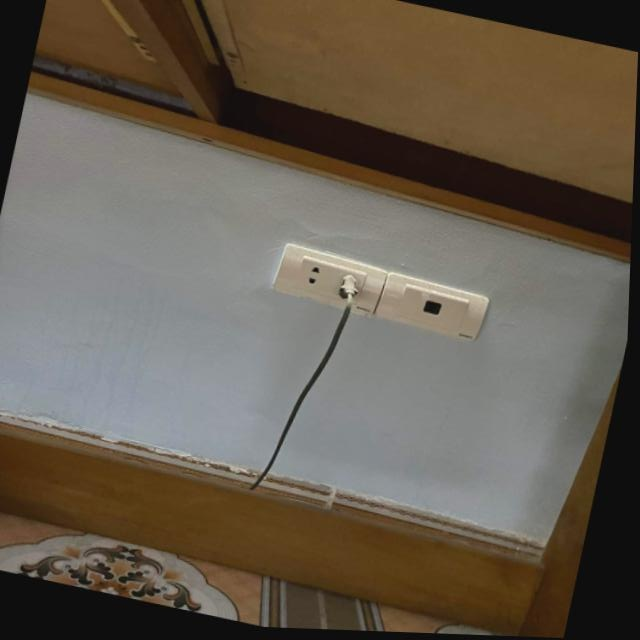outlet: (270, 241, 391, 318), (374, 270, 493, 342)
